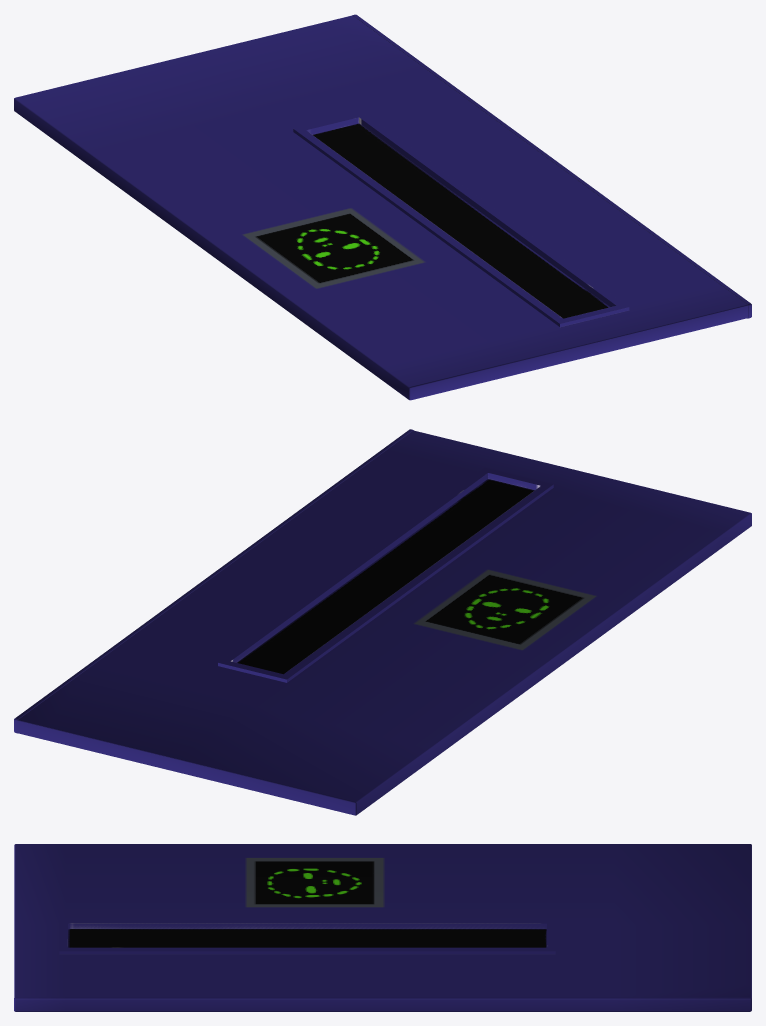
The model's file is door2.obj.
The picture shows the model from 3 angles, top to bottom: view 1: azimuth 30°, elevation 25°; view 2: azimuth 150°, elevation 25°; view 3: azimuth 270°, elevation 25°; orthographic projection. The views are drawn at different scales.
Visible parts, largest first — view 1: submesh; view 2: submesh; view 3: submesh.
Part boxes in pixels (bbox=[...]): submesh: bbox=[14, 14, 751, 400]; submesh: bbox=[14, 429, 751, 815]; submesh: bbox=[14, 844, 751, 1011].
Size of what is drawn, in the model's own units: 0.9995 by 0.0565 by 2.
Materials: 1 (1 with a texture image).
